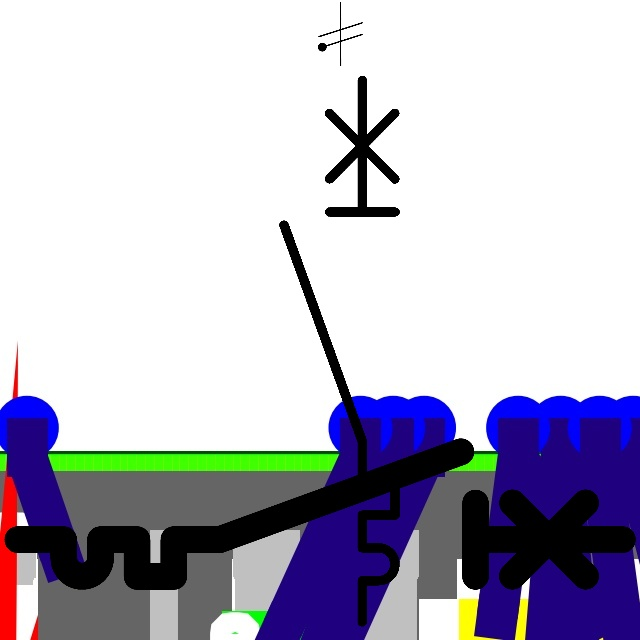interruptor_termomagnetico: (2, 436, 638, 592), (270, 66, 409, 635)
